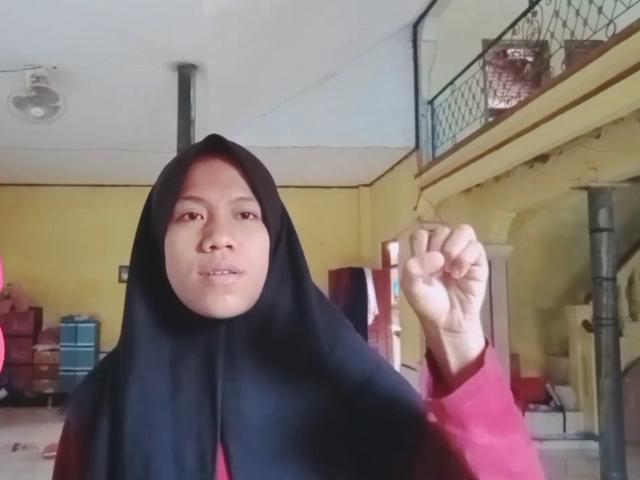S: (398, 219, 496, 335)
